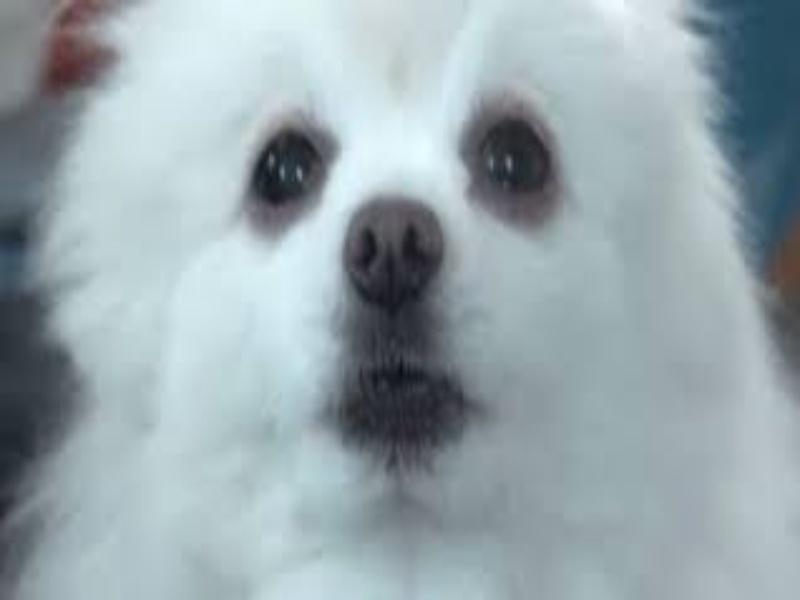dog: (110, 1, 759, 580)
